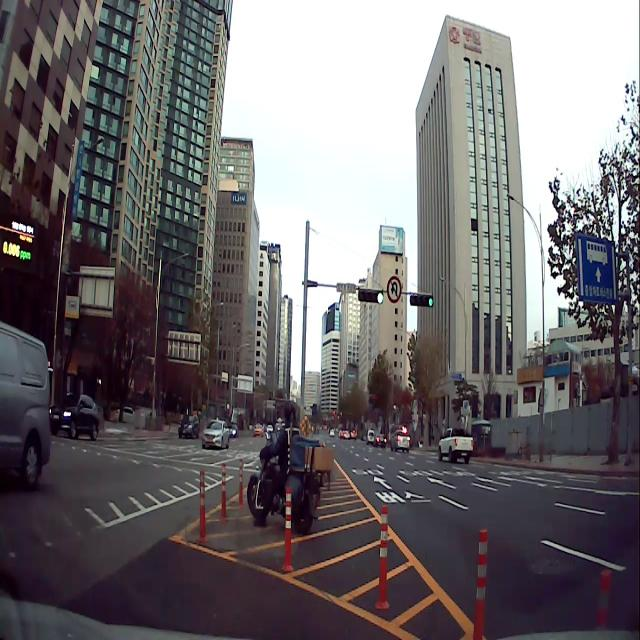Green Light: (375, 290, 384, 305), (427, 296, 434, 308)
